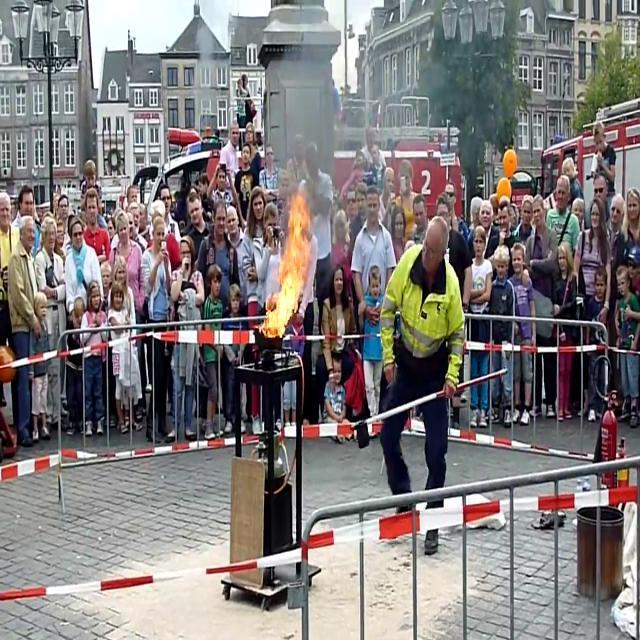Fire: (266, 192, 318, 336)
Smoke: (261, 50, 397, 196)
